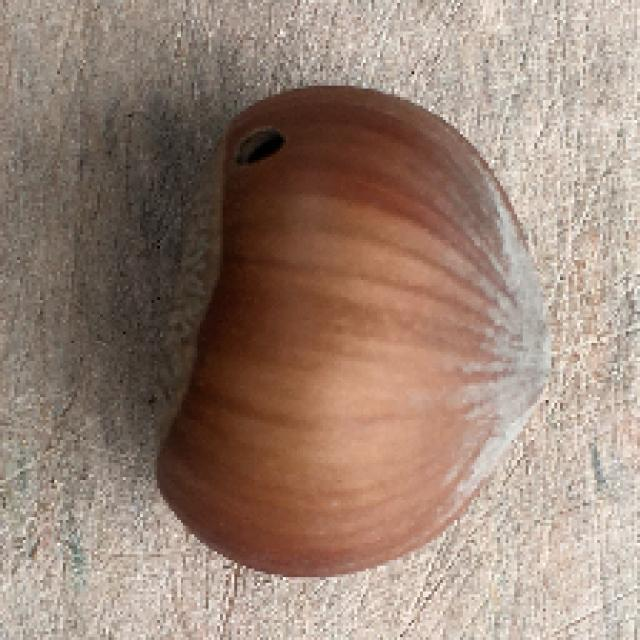DamagedHazelnut: (151, 87, 557, 576)
